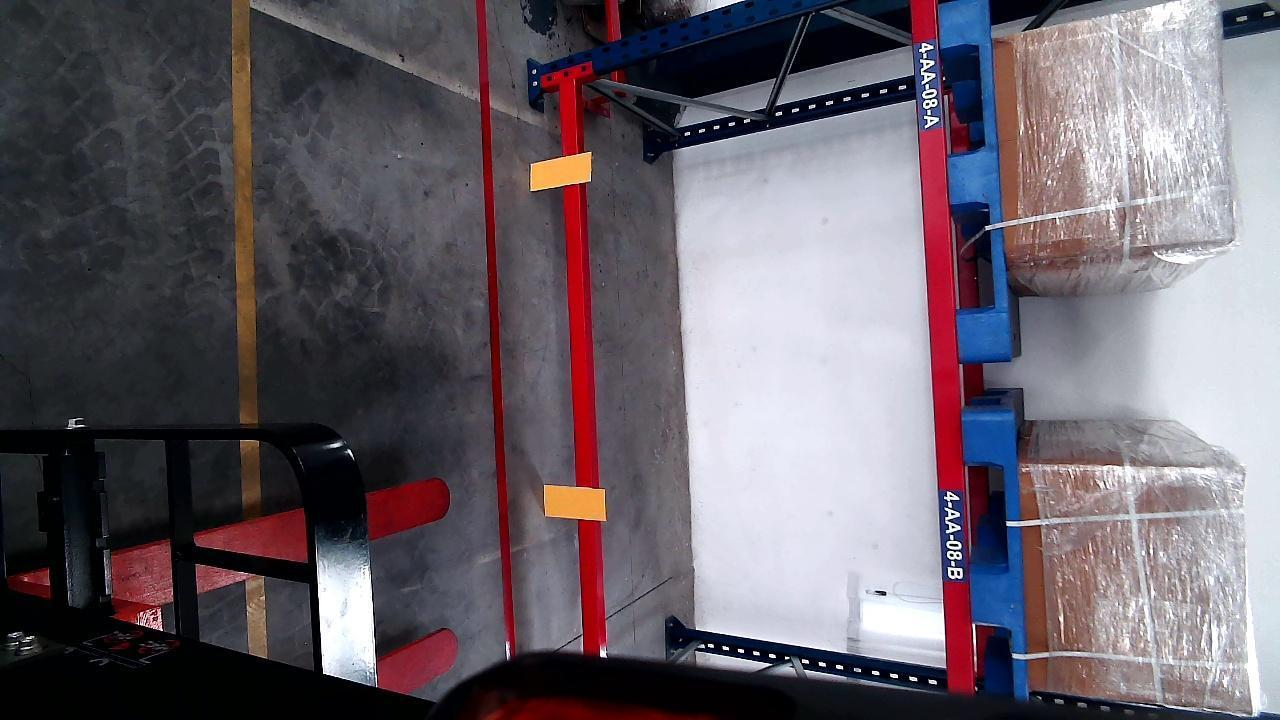h_rack: (561, 73, 605, 661)
orange_strip: (530, 151, 591, 190), (543, 484, 605, 520)
small_pallet: (936, 0, 1014, 361), (966, 413, 1025, 689)
yellow_line: (232, 2, 259, 424)
